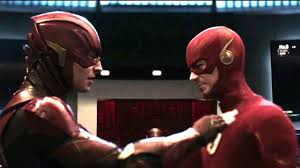Bad: (1, 10, 300, 168)
